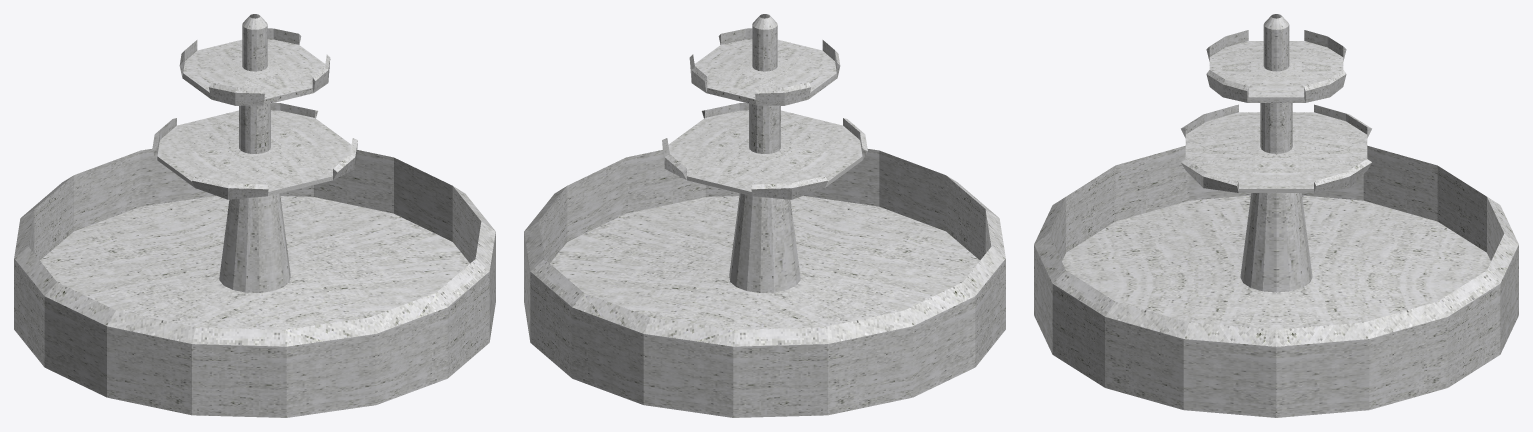
File: fountain.fbx
The picture shows the model from 3 angles, left to right: view 1: azimuth 30°, elevation 25°; view 2: azimuth 150°, elevation 25°; view 3: azimuth 270°, elevation 25°; orthographic projection.
Visible parts, largest first — view 1: Cylinder; view 2: Cylinder; view 3: Cylinder.
Part boxes in pixels (x1=…): Cylinder: x1=14, y1=14, x2=495, y2=417; Cylinder: x1=524, y1=14, x2=1005, y2=417; Cylinder: x1=1034, y1=14, x2=1518, y2=417.
Bounding box in the file's own units: 1124 × 765 × 1124.
